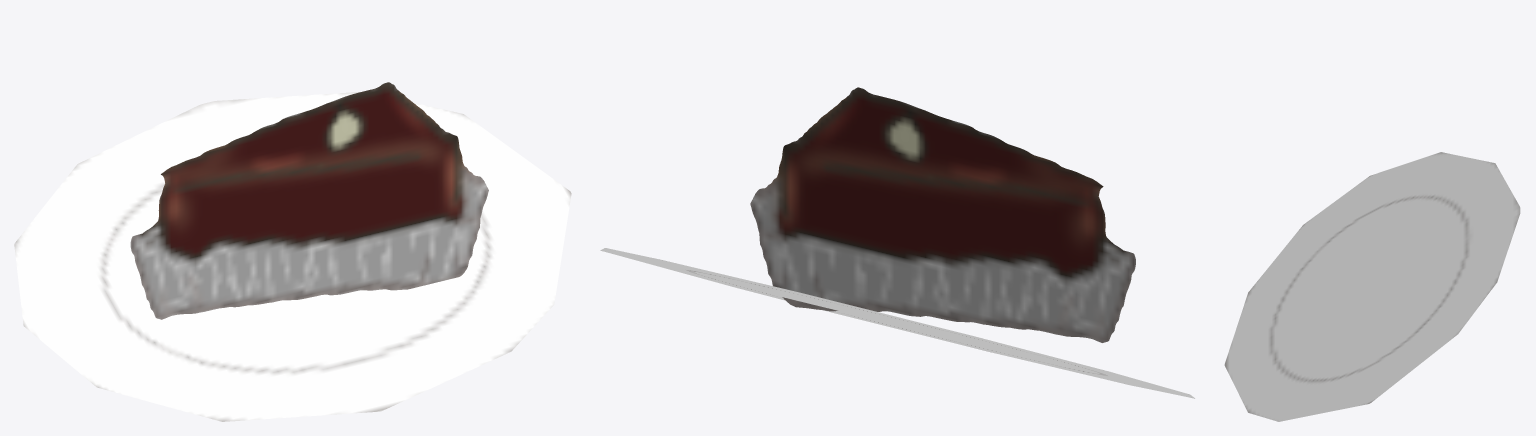
Rendered from giftgoods042b.fbx.
3 renders of one model, left to right at view 1: azimuth 30°, elevation 25°; view 2: azimuth 150°, elevation 25°; view 3: azimuth 270°, elevation 25°, orthographic. The views are drawn at different scales.
Visible parts, largest first — view 1: giftgoods042b; view 2: giftgoods042b; view 3: giftgoods042b.
Boxes of the visible parts, x1,y1,x2,y2 form: giftgoods042b: (14,82,571,421); giftgoods042b: (600,87,1194,398); giftgoods042b: (1224,152,1520,421).
Size of the model in its own units: 0.3876 by 0.2103 by 0.2135.
